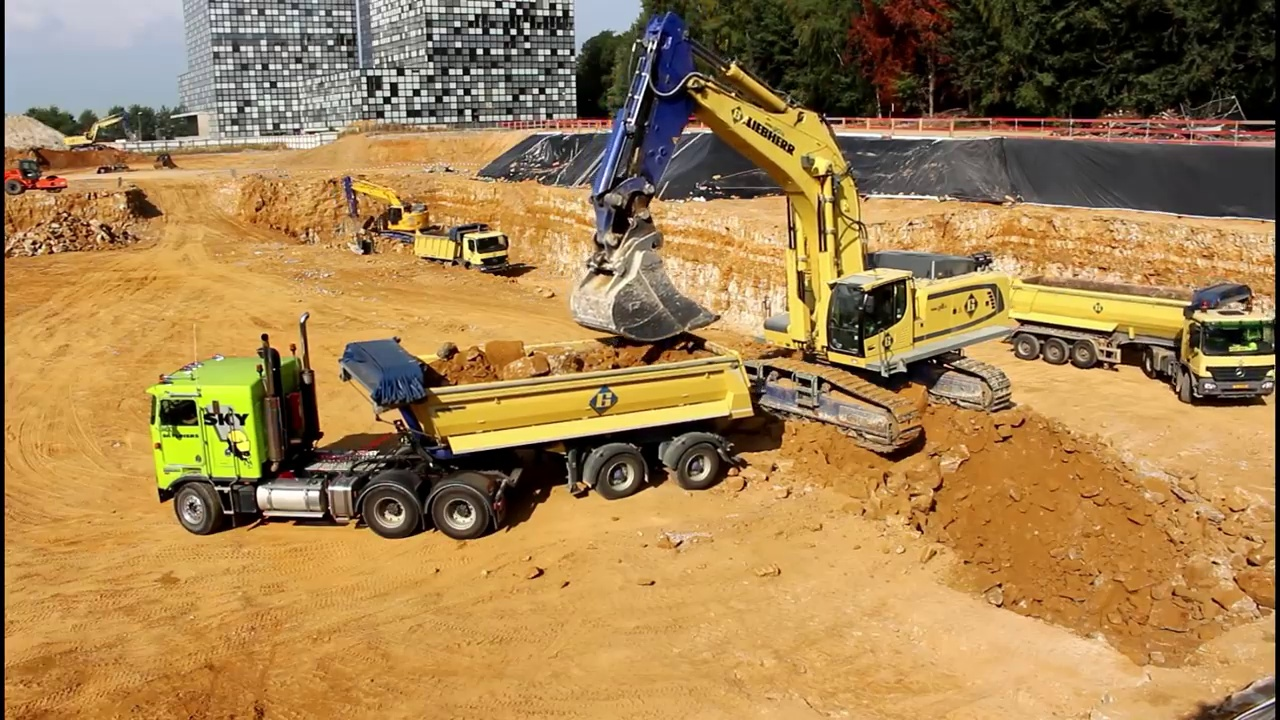compactor: (4, 157, 71, 198)
excavator: (561, 5, 1015, 458), (337, 167, 445, 251), (61, 109, 143, 158)
truck: (143, 310, 759, 543), (1005, 269, 1280, 408), (411, 220, 516, 282)
